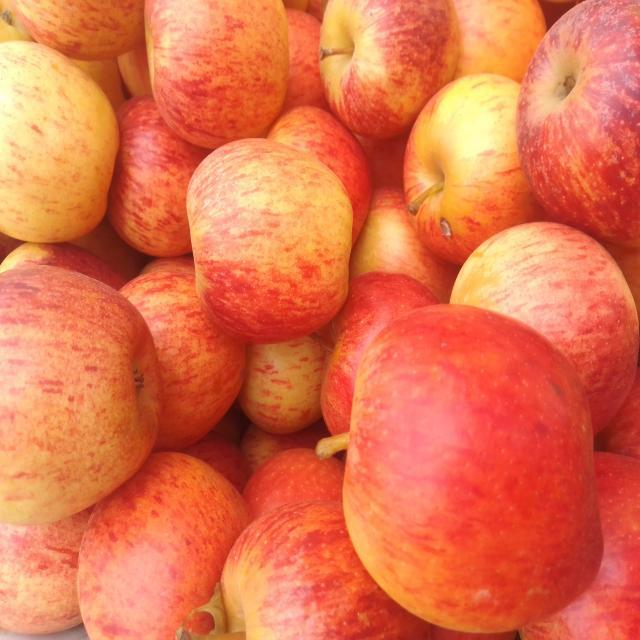Fresh Apple: (346, 315, 592, 610), (8, 256, 147, 526), (178, 147, 350, 340), (395, 75, 535, 252), (134, 7, 298, 138), (318, 0, 448, 130)
